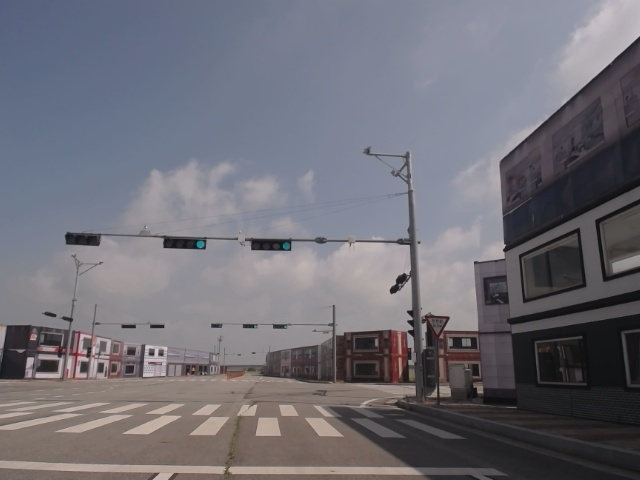straight_green_4: (164, 238, 206, 250), (252, 239, 292, 250)
